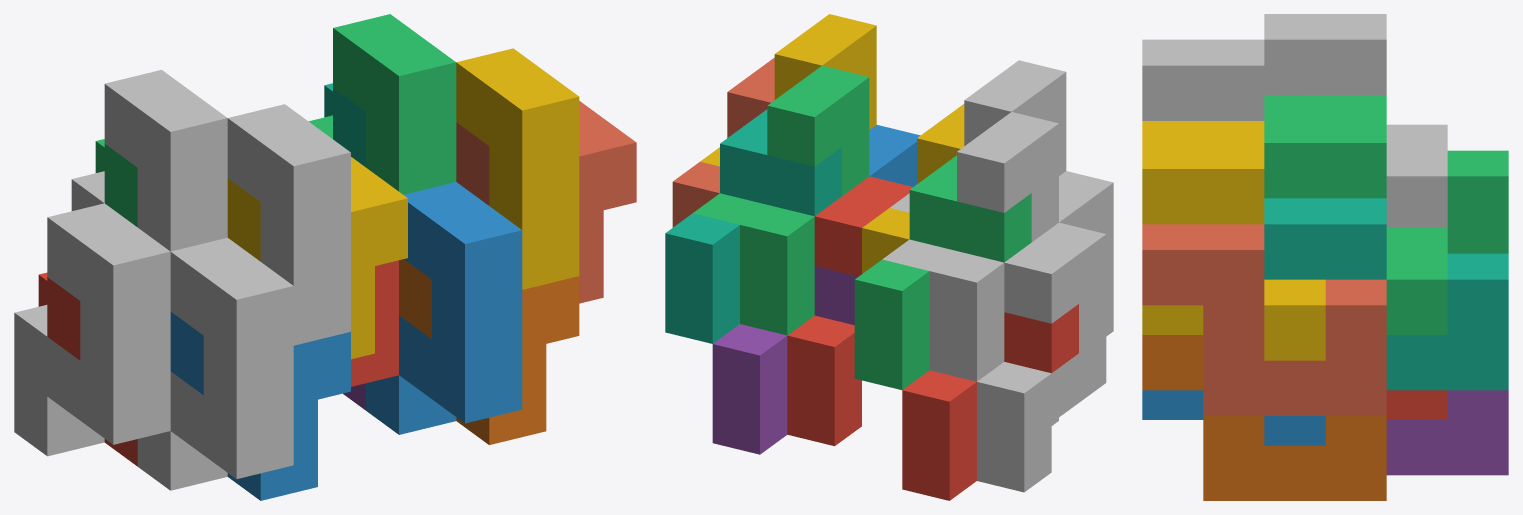
The model's file is tiling.obj.
The picture shows the model from 3 angles, left to right: view 1: azimuth 30°, elevation 25°; view 2: azimuth 150°, elevation 25°; view 3: azimuth 270°, elevation 25°; orthographic projection. The views are drawn at different scales.
Parts seen in each view (by area): view 1: copy_2_domain_1, copy_2_domain_2, copy_2_domain_6, copy_2_domain_8, copy_2_domain_4, copy_2_domain_3, copy_2_domain_7, copy_1_domain_8, copy_1_domain_4, copy_1_domain_2, copy_1_domain_6, copy_2_domain_5 (+3 smaller); view 2: copy_2_domain_1, copy_2_domain_3, copy_2_domain_7, copy_1_domain_3, copy_1_domain_7, copy_2_domain_5, copy_1_domain_1, copy_1_domain_5, copy_2_domain_4, copy_2_domain_8, copy_1_domain_8, copy_1_domain_4 (+2 smaller); view 3: copy_1_domain_8, copy_1_domain_7, copy_1_domain_6, copy_2_domain_8, copy_2_domain_7, copy_2_domain_3, copy_2_domain_4, copy_1_domain_3, copy_1_domain_5, copy_2_domain_6, copy_1_domain_4, copy_2_domain_5.
Part boxes in pixels (left/top/right/bottom): copy_2_domain_1: left=14, top=203, right=170, bottom=456; copy_2_domain_2: left=137, top=237, right=293, bottom=490; copy_2_domain_6: left=366, top=182, right=522, bottom=434; copy_2_domain_8: left=456, top=48, right=579, bottom=289; copy_2_domain_4: left=227, top=104, right=350, bottom=345; copy_2_domain_3: left=71, top=70, right=227, bottom=251; copy_2_domain_7: left=309, top=14, right=456, bottom=194; copy_1_domain_8: left=456, top=101, right=636, bottom=303; copy_1_domain_4: left=227, top=157, right=407, bottom=359; copy_1_domain_2: left=170, top=312, right=350, bottom=500; copy_1_domain_6: left=399, top=259, right=579, bottom=444; copy_2_domain_5: left=351, top=260, right=398, bottom=386; copy_2_domain_1: left=977, top=222, right=1106, bottom=492; copy_2_domain_3: left=882, top=112, right=1058, bottom=381; copy_2_domain_7: left=693, top=65, right=869, bottom=335; copy_1_domain_3: left=854, top=155, right=1031, bottom=389; copy_1_domain_7: left=665, top=109, right=841, bottom=343; copy_2_domain_5: left=787, top=176, right=912, bottom=446; copy_1_domain_1: left=902, top=304, right=1078, bottom=500; copy_1_domain_5: left=712, top=266, right=858, bottom=454; copy_2_domain_4: left=890, top=60, right=1066, bottom=212; copy_2_domain_8: left=700, top=14, right=876, bottom=166; copy_1_domain_8: left=672, top=57, right=774, bottom=227; copy_1_domain_4: left=862, top=104, right=964, bottom=273; copy_1_domain_8: left=1142, top=224, right=1386, bottom=415; copy_1_domain_7: left=1264, top=198, right=1508, bottom=390; copy_1_domain_6: left=1142, top=335, right=1386, bottom=500; copy_2_domain_8: left=1142, top=143, right=1325, bottom=360; copy_2_domain_7: left=1264, top=117, right=1447, bottom=334; copy_2_domain_3: left=1264, top=14, right=1447, bottom=227; copy_2_domain_4: left=1142, top=39, right=1264, bottom=120; copy_1_domain_3: left=1264, top=95, right=1508, bottom=253; copy_1_domain_5: left=1386, top=390, right=1508, bottom=475; copy_2_domain_6: left=1142, top=390, right=1325, bottom=445; copy_1_domain_4: left=1142, top=121, right=1264, bottom=142; copy_2_domain_5: left=1386, top=390, right=1447, bottom=419.
Bounding box in the file's own units: 8 × 6 × 6.
